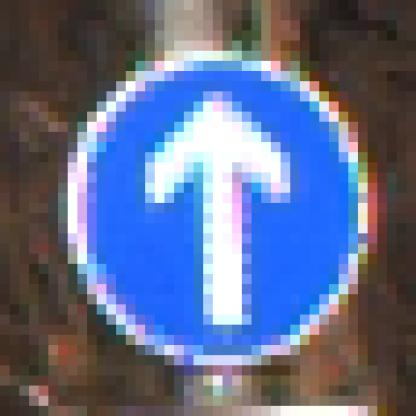AheadOnly: (59, 52, 369, 366)
